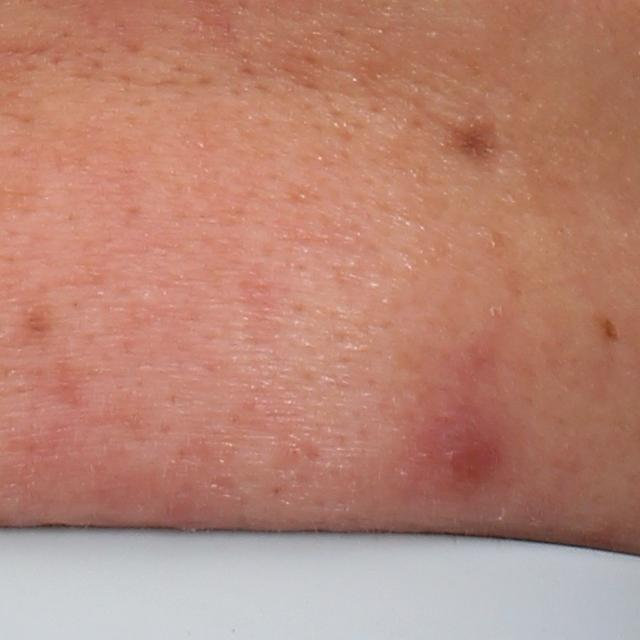papule: (438, 415, 490, 492)
